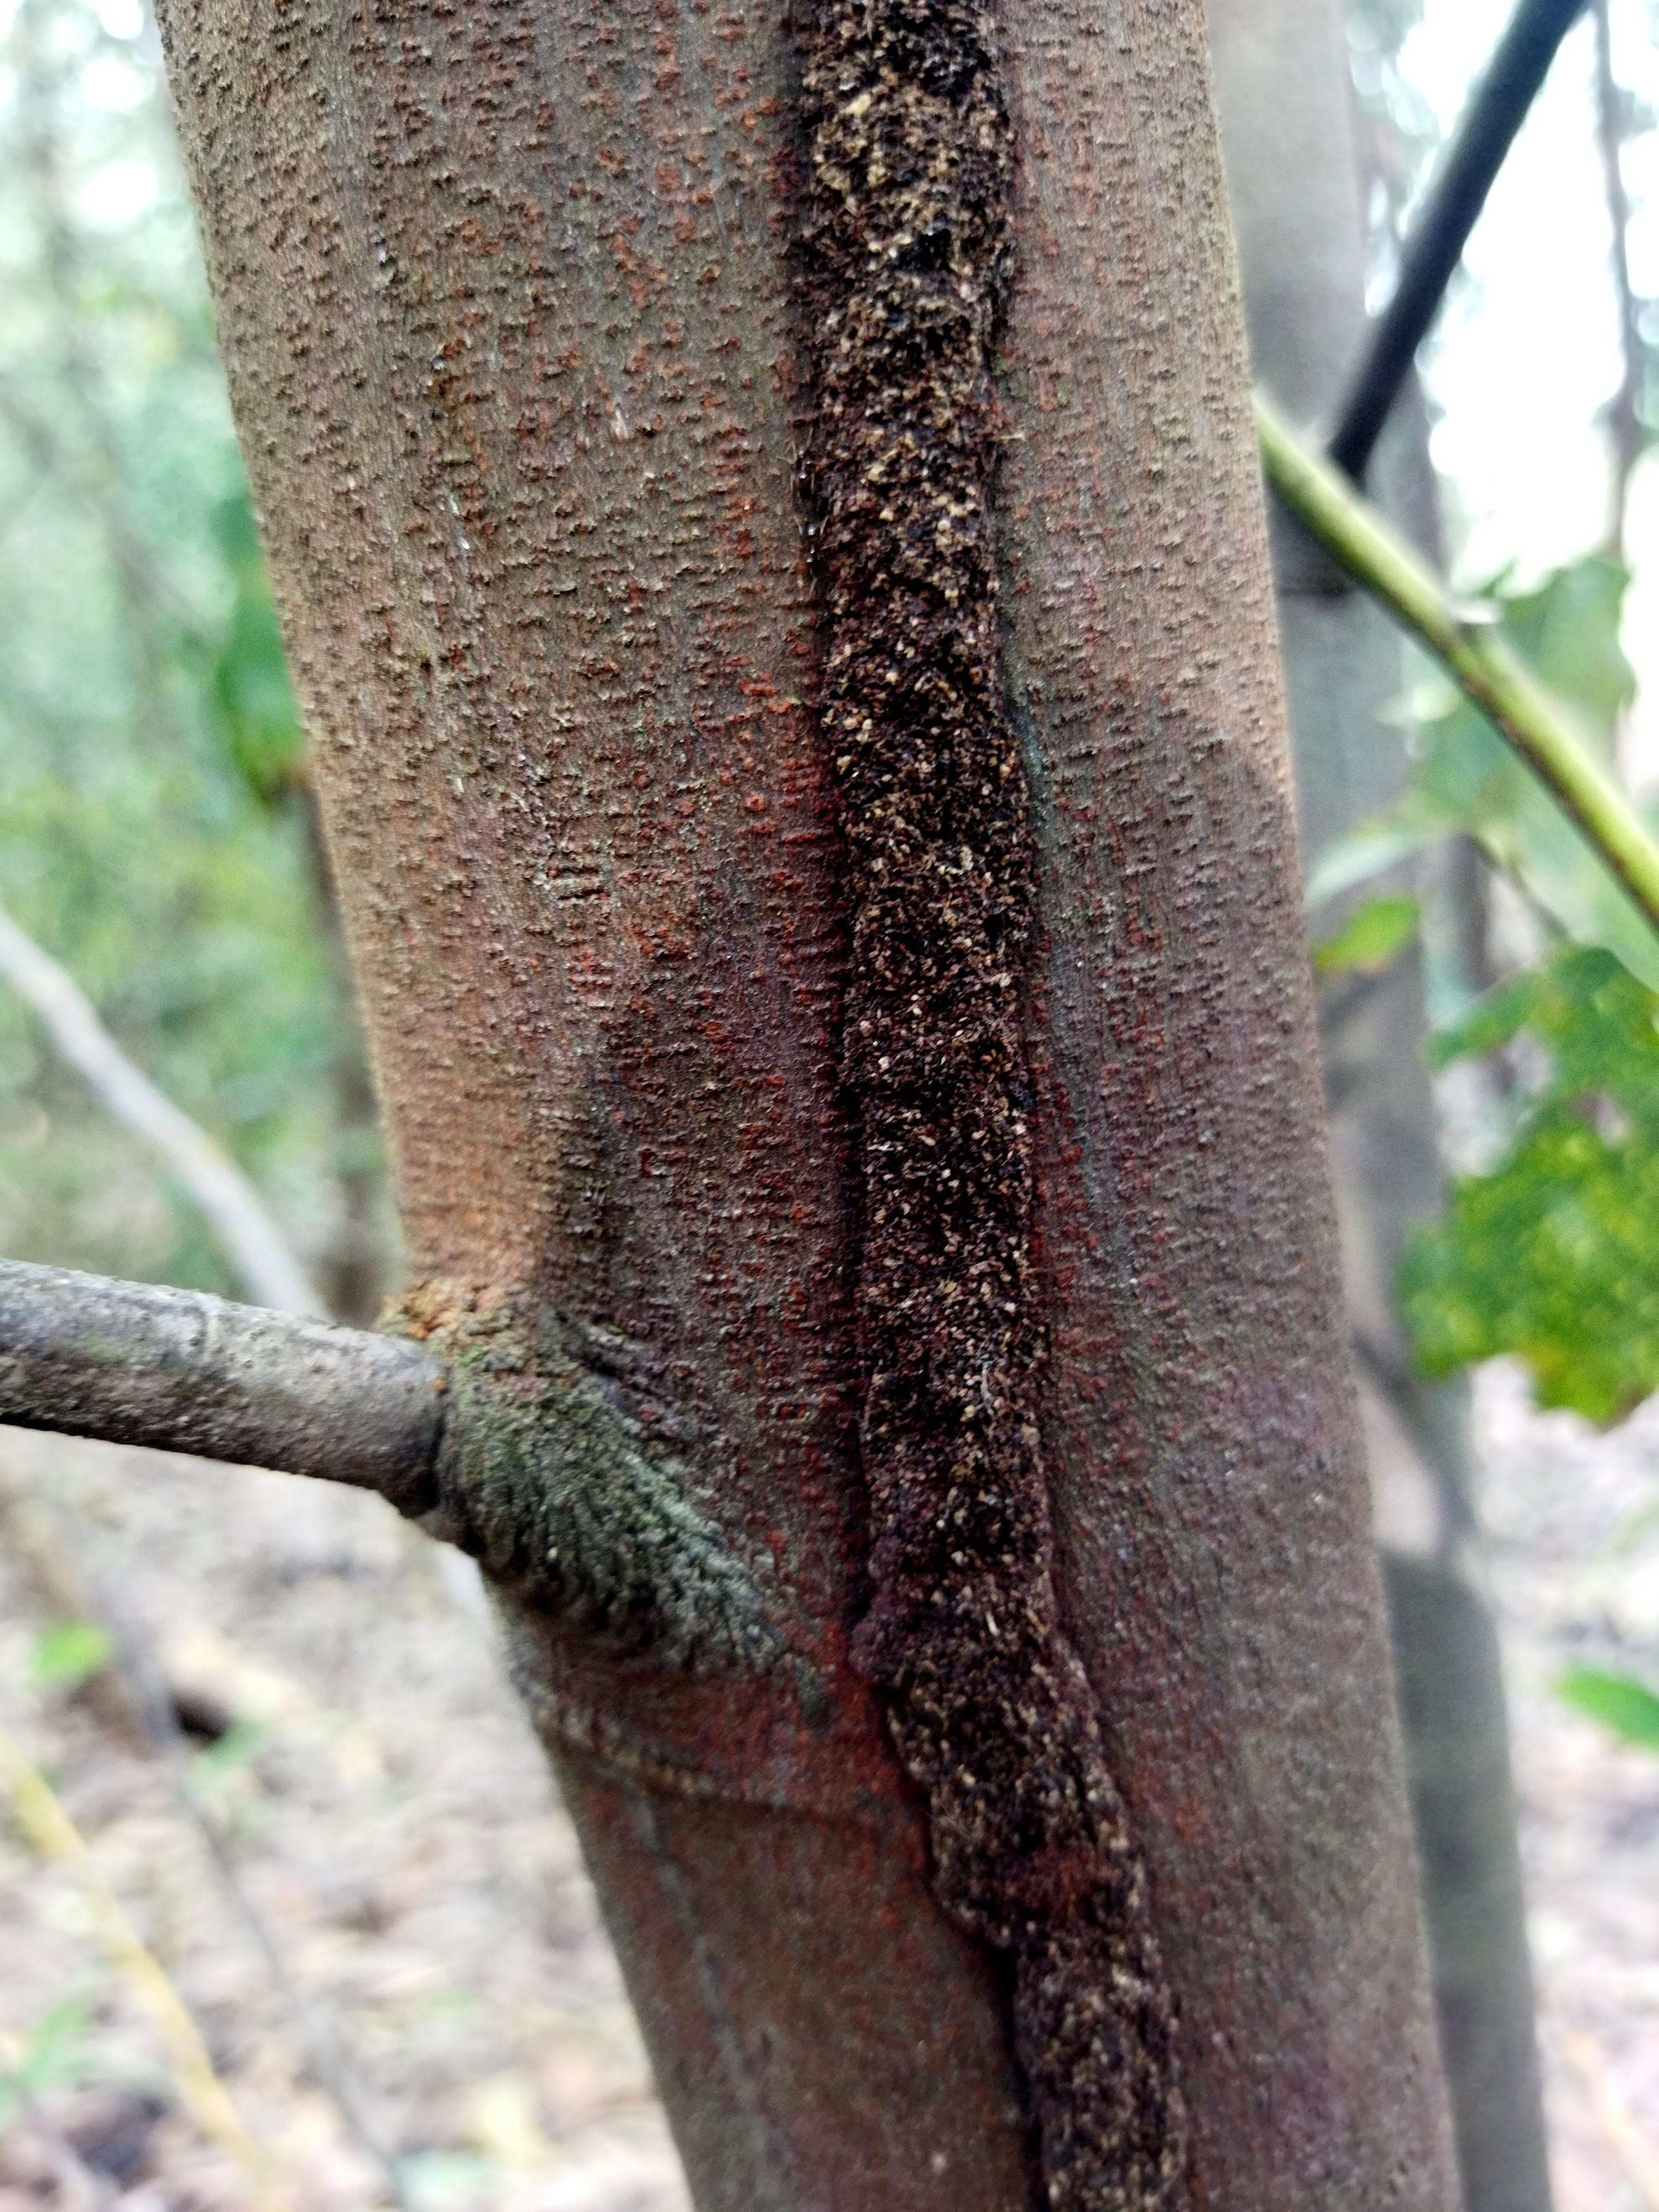Termite - Nest: (714, 0, 1293, 2212)
